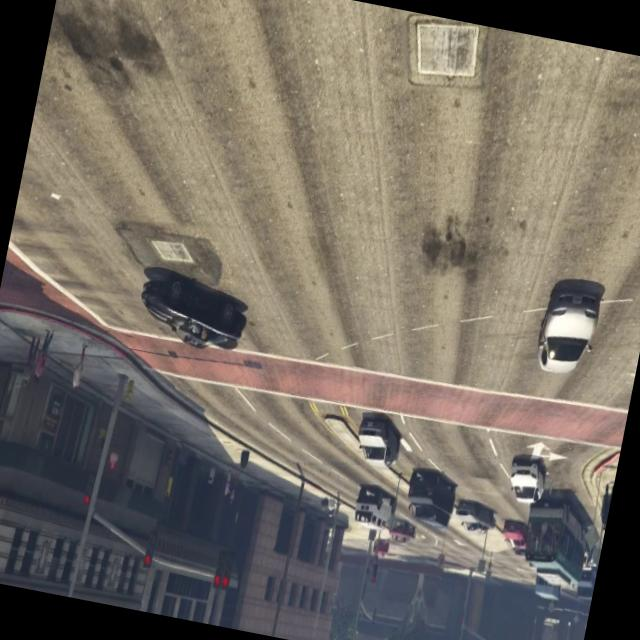Red-Signal: (204, 538, 243, 600), (138, 522, 162, 576), (76, 464, 100, 514)
